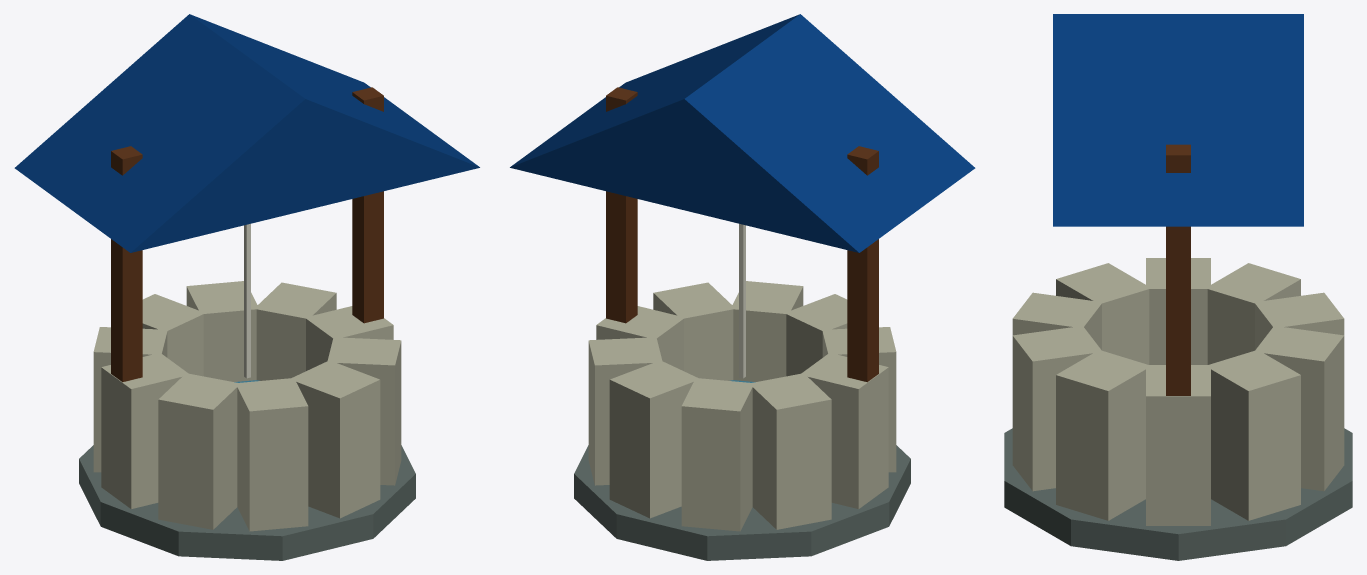
Rendered from well.fbx.
3 views of the same model, side by side, from view 1: azimuth 30°, elevation 25°; view 2: azimuth 150°, elevation 25°; view 3: azimuth 270°, elevation 25° (orthographic). The views are drawn at different scales.
Parts seen in each view (by area): view 1: well; view 2: well; view 3: well.
Part boxes in pixels (bbox=[...]): well: bbox=[14, 14, 479, 560]; well: bbox=[510, 14, 975, 560]; well: bbox=[1004, 14, 1352, 560].
Bounding box in the file's own units: 1.48 × 1.75 × 1.18.
